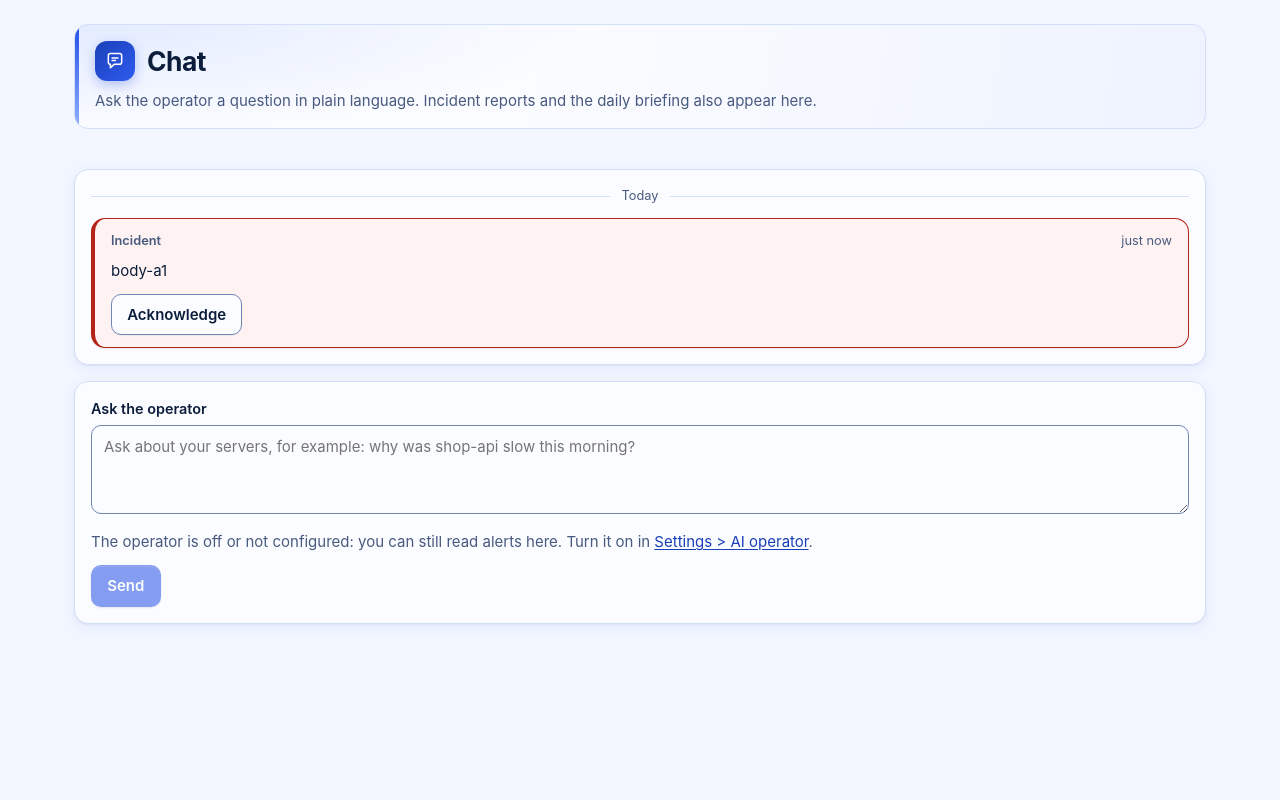
Scenario: ChatPage › shows action buttons for admins and disables after use
The image size is (1280, 800).
Click the button "Acknowledge".
click(177, 315)  # box [111, 294, 242, 336]
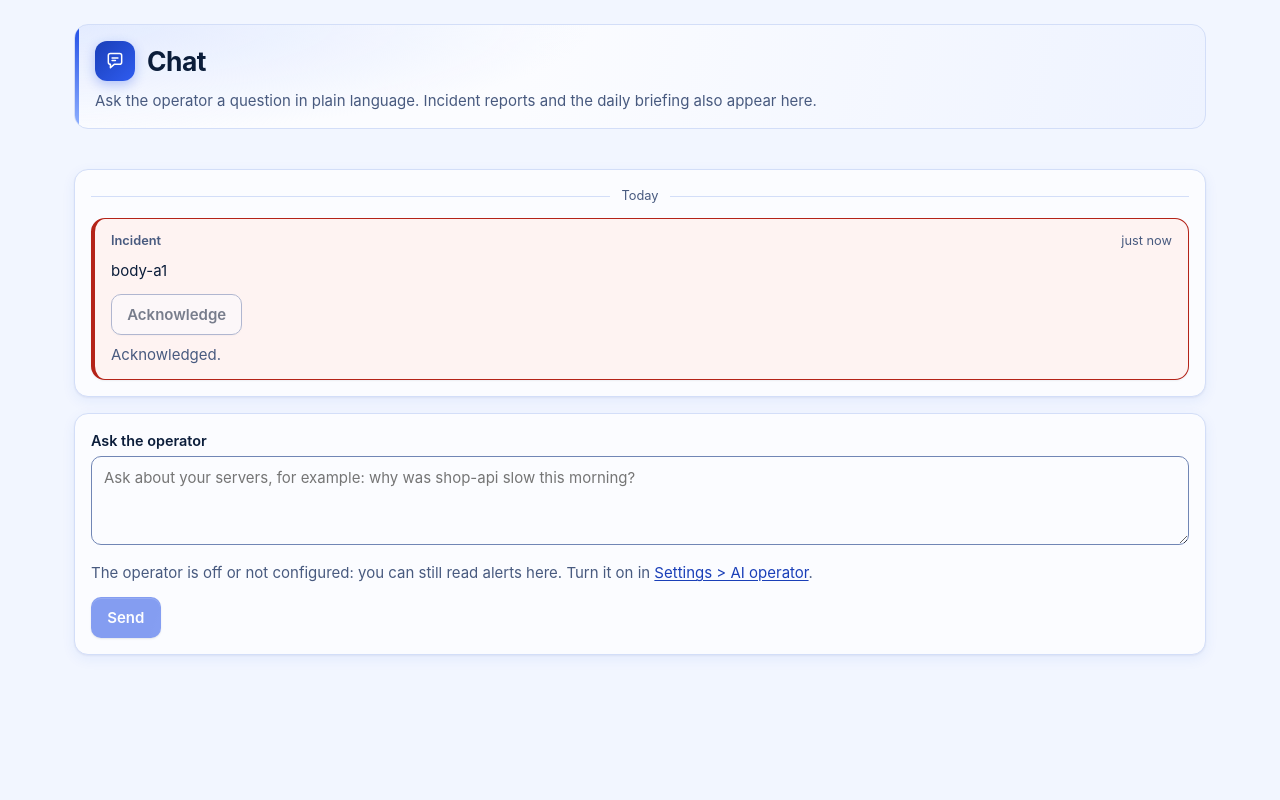
Now the text "Acknowledged." is shown, box [111, 345, 221, 364]
Now the button "Acknowledge" is disabled, box [111, 294, 242, 336]
